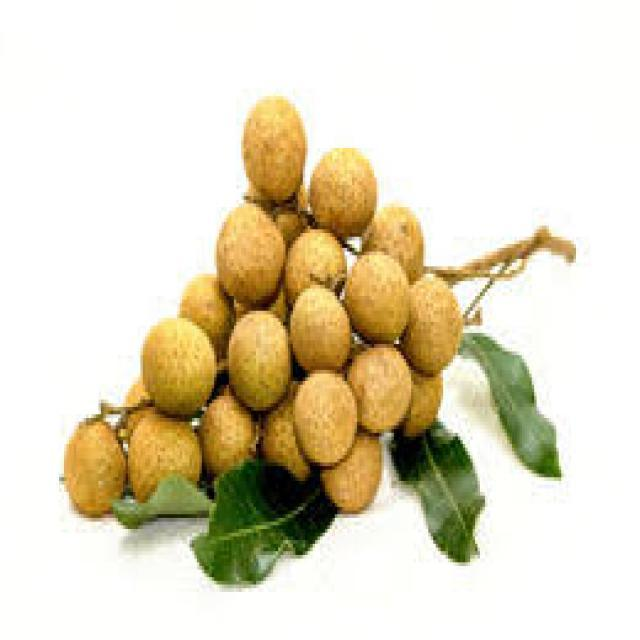Organik: (64, 95, 578, 592)
